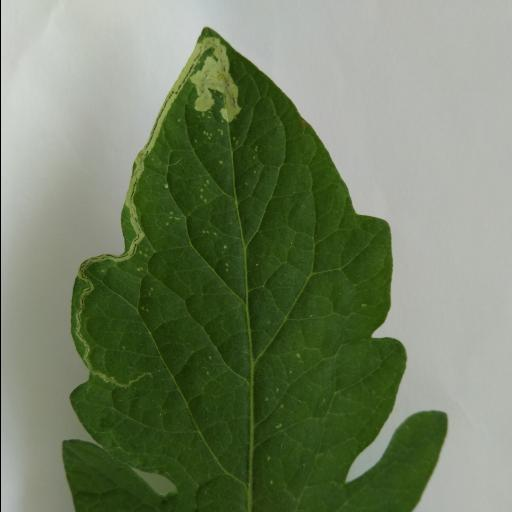Leaf Miner: (61, 24, 449, 512)
